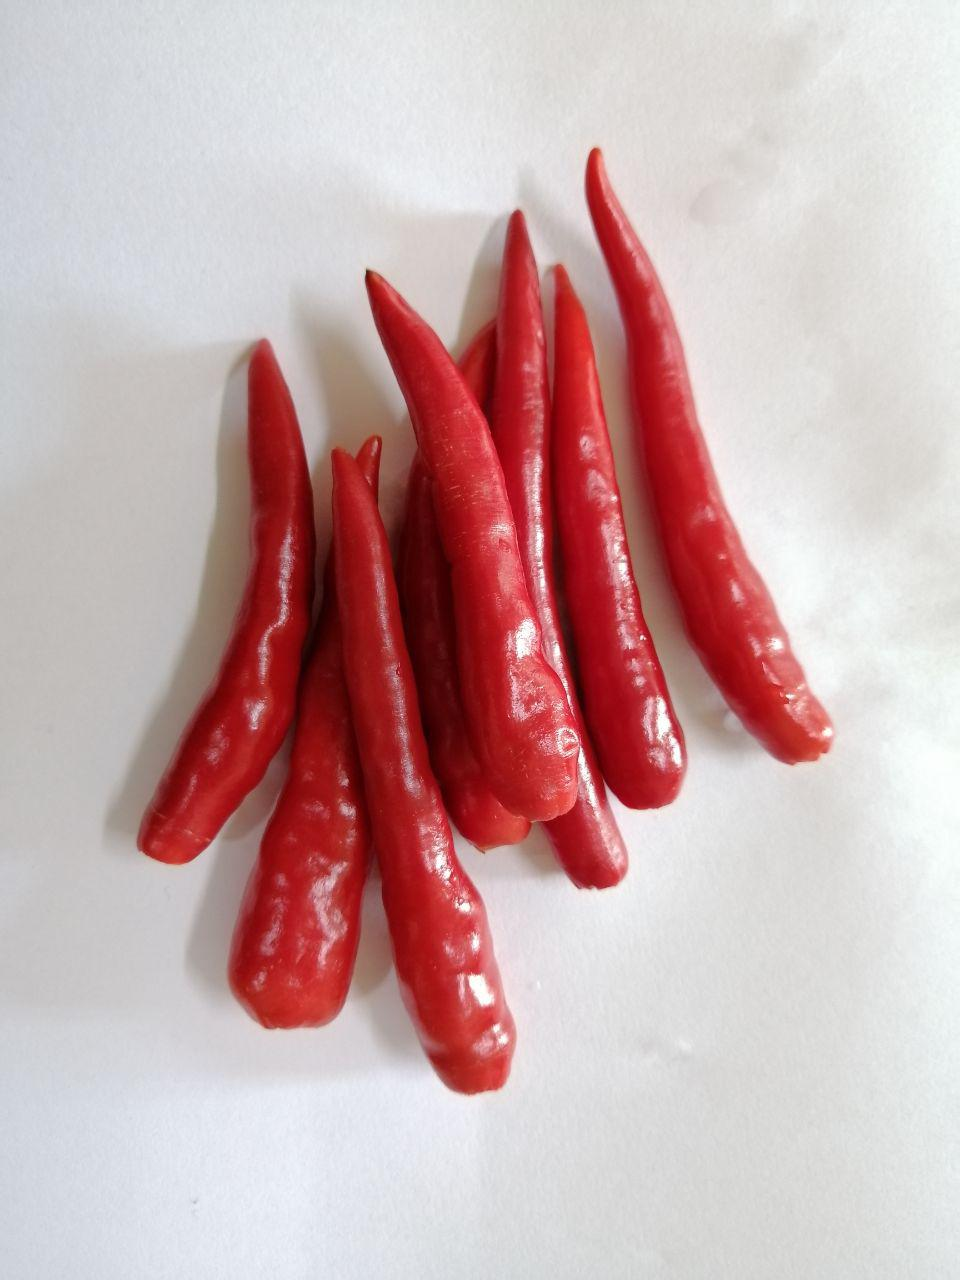lada merah: (565, 147, 857, 782), (337, 253, 608, 827), (310, 449, 535, 1117), (467, 188, 645, 908), (130, 327, 322, 884), (522, 251, 702, 843), (208, 615, 381, 1059)
